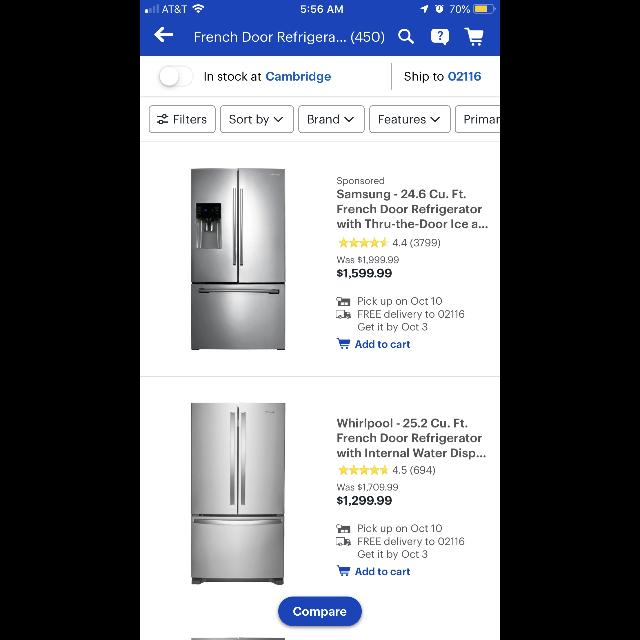icon: (338, 465, 389, 475), (338, 237, 389, 247), (464, 28, 484, 46), (154, 27, 174, 43), (432, 28, 448, 46), (398, 30, 414, 44), (337, 566, 351, 576), (337, 338, 351, 348), (430, 118, 440, 122), (344, 118, 354, 122), (274, 118, 282, 122)
image: (190, 402, 286, 586), (191, 168, 285, 350), (336, 524, 350, 534), (336, 310, 350, 320), (336, 538, 350, 546), (336, 298, 350, 306)
switch: (158, 65, 194, 87)
text: (337, 418, 485, 459), (337, 190, 488, 228), (358, 297, 464, 333), (358, 524, 464, 560), (195, 32, 385, 44), (205, 72, 331, 84), (404, 72, 482, 84), (336, 269, 392, 279), (336, 496, 392, 506), (337, 256, 399, 264), (393, 239, 441, 249), (338, 484, 398, 492), (356, 340, 410, 348), (356, 567, 410, 575), (393, 466, 435, 476), (338, 177, 384, 186)
textbutton: (278, 596, 362, 626), (370, 106, 450, 134), (220, 105, 294, 133), (148, 105, 216, 133), (299, 105, 365, 133), (454, 105, 500, 133)
uppertaskbar: (140, 0, 500, 14)
